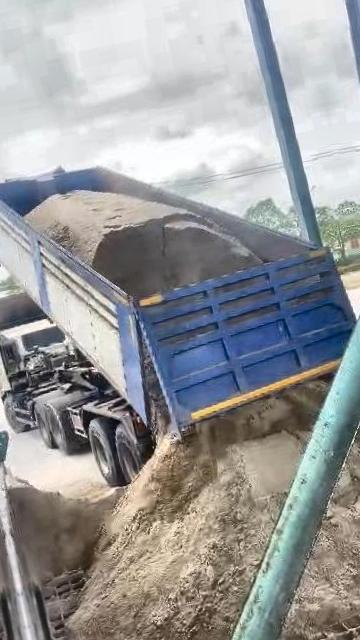sand: (70, 386, 324, 640), (26, 190, 260, 298), (284, 409, 360, 640), (9, 473, 119, 586)
